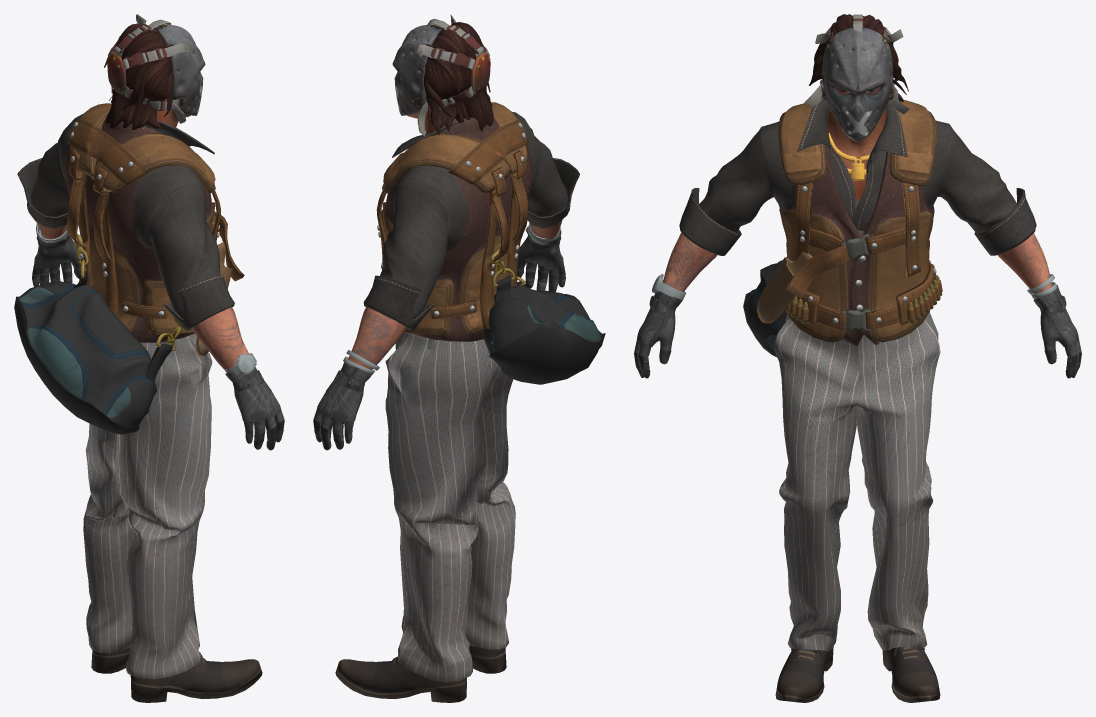
Rendered from character_cs2.glb.
3 renders of one model, left to right at view 1: azimuth 30°, elevation 25°; view 2: azimuth 150°, elevation 25°; view 3: azimuth 270°, elevation 25°, orthographic.
Visible parts, largest first — view 1: Object_5, Object_3, Object_4, Object_6, Object_2; view 2: Object_5, Object_3, Object_4, Object_2, Object_6; view 3: Object_3, Object_5, Object_6, Object_4, Object_2.
Boxes of the visible parts, x1,y1,x2,y2 form: Object_5: (83,333,262,702); Object_3: (17,103,256,375); Object_4: (14,23,190,434); Object_6: (107,14,205,123); Object_2: (32,226,284,450); Object_5: (335,332,515,702); Object_3: (343,102,579,374); Object_4: (407,22,605,384); Object_2: (313,225,565,450); Object_6: (392,14,490,136); Object_3: (652,96,1057,345); Object_5: (774,312,940,702); Object_6: (804,14,909,141); Object_4: (743,14,908,357); Object_2: (634,284,1081,378).
Bounding box in the file's own units: 25.75 × 78.32 × 48.43.
5 materials, 5 textured.
